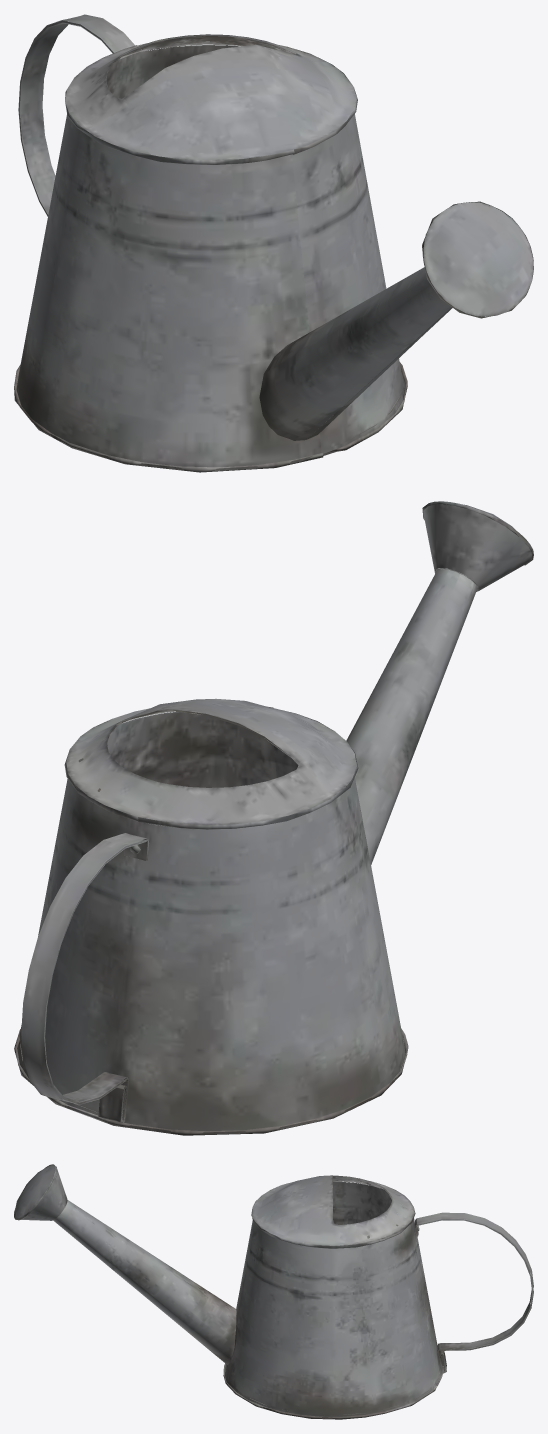
Rendered from watering_can_metal_01.glb.
3 renders of one model, top to bottom at view 1: azimuth 30°, elevation 25°; view 2: azimuth 150°, elevation 25°; view 3: azimuth 270°, elevation 25°, orthographic. The views are drawn at different scales.
Visible parts, largest first — view 1: watering_can_metal_01; view 2: watering_can_metal_01; view 3: watering_can_metal_01.
Boxes of the visible parts, box(x1,y1,x2,y2) form: watering_can_metal_01: box(14, 14, 533, 472); watering_can_metal_01: box(14, 501, 533, 1135); watering_can_metal_01: box(14, 1164, 533, 1419).
Size of the model in its own units: 0.1912 by 0.1967 by 0.452.
Materials: 1 (1 with a texture image).
